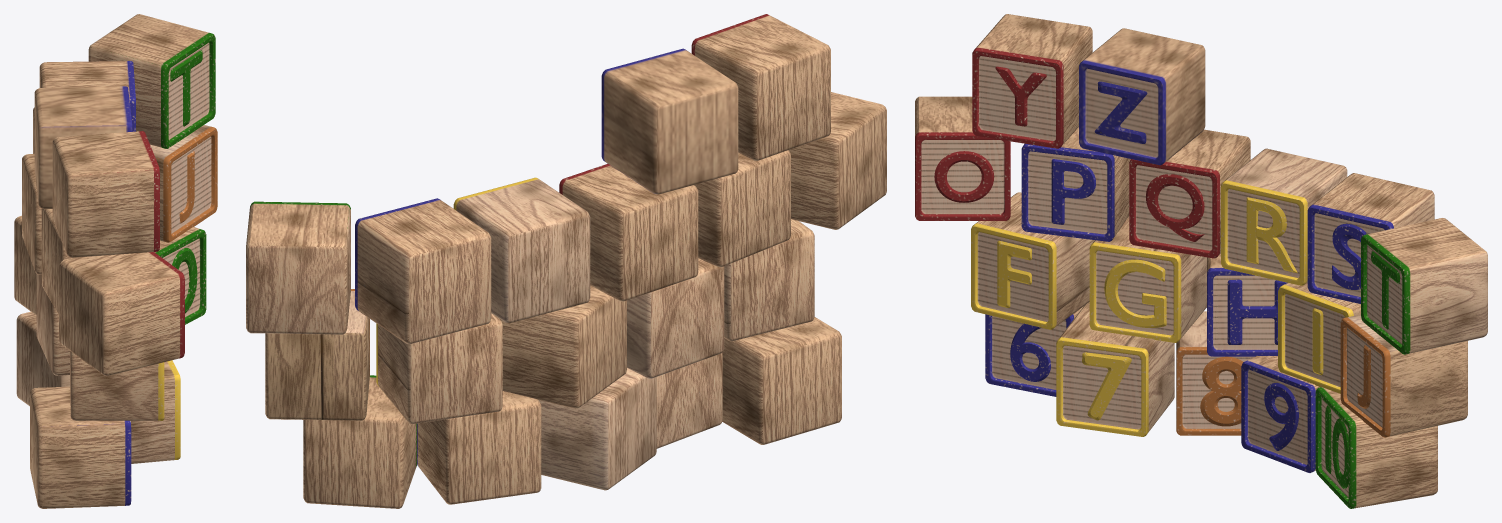
File: toyBlocksHalf2.obj
3 renders of one model, left to right at view 1: azimuth 30°, elevation 25°; view 2: azimuth 150°, elevation 25°; view 3: azimuth 270°, elevation 25°, orthographic. The views are drawn at different scales.
Parts seen in each view (by area): view 1: 10; view 2: 10; view 3: 10.
Part boxes in pixels (bbox=[...]): 10: bbox=[14, 14, 217, 508]; 10: bbox=[246, 14, 886, 508]; 10: bbox=[915, 14, 1487, 508].
Size of the model in its own units: 24.92 by 22.24 by 33.42.
